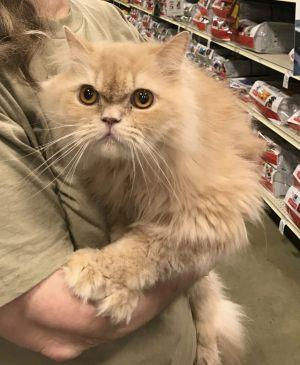persian: (45, 20, 207, 172)
